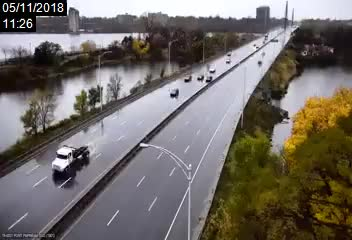personal_car: (169, 88, 179, 97), (183, 74, 192, 82), (205, 73, 212, 82), (196, 73, 203, 80), (209, 66, 215, 73)
truck: (51, 142, 89, 175)
